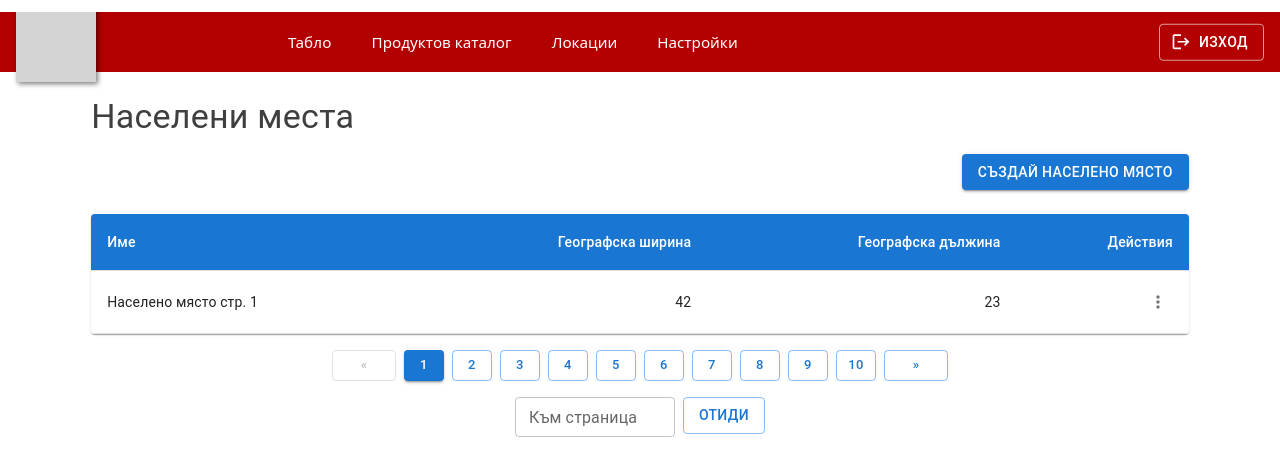
Test: Settlements page › requests the selected page when a page button is clicked
The width and height of the screenshot is (1280, 454).
Step 1. Click the button named "Страница 2" → (472, 366), box [452, 350, 492, 381]
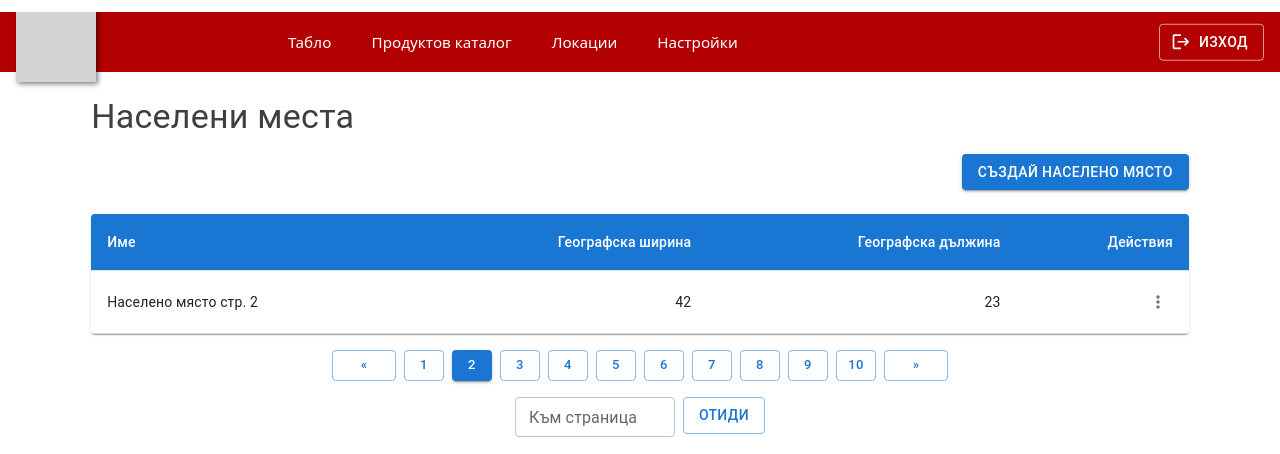
Now the text "Населено място стр. 2" is shown, box [91, 271, 415, 334]
